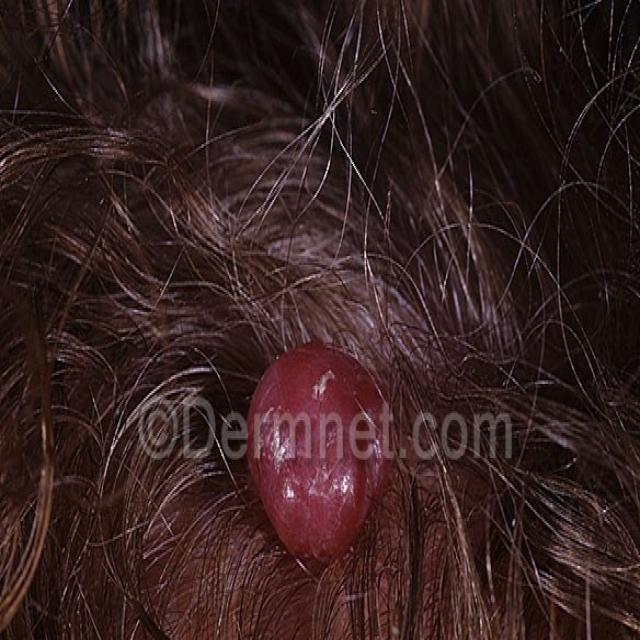Vascular Tumors: (234, 345, 391, 572)
